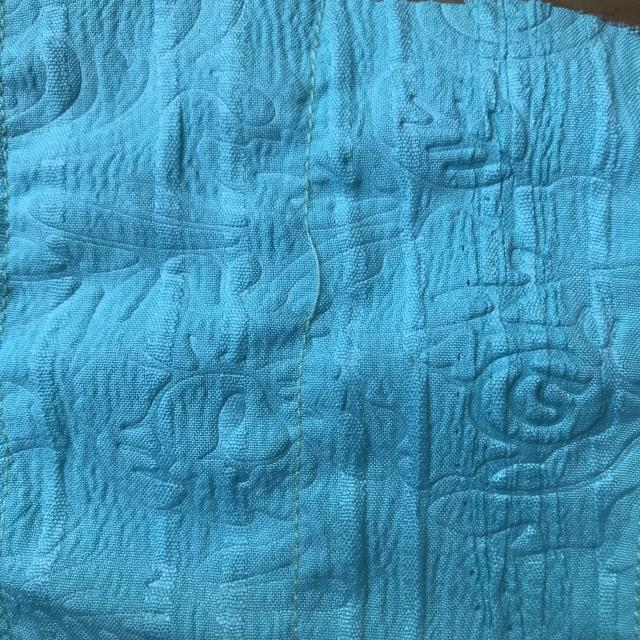good: (296, 93, 326, 174)
skip: (287, 201, 341, 360)
